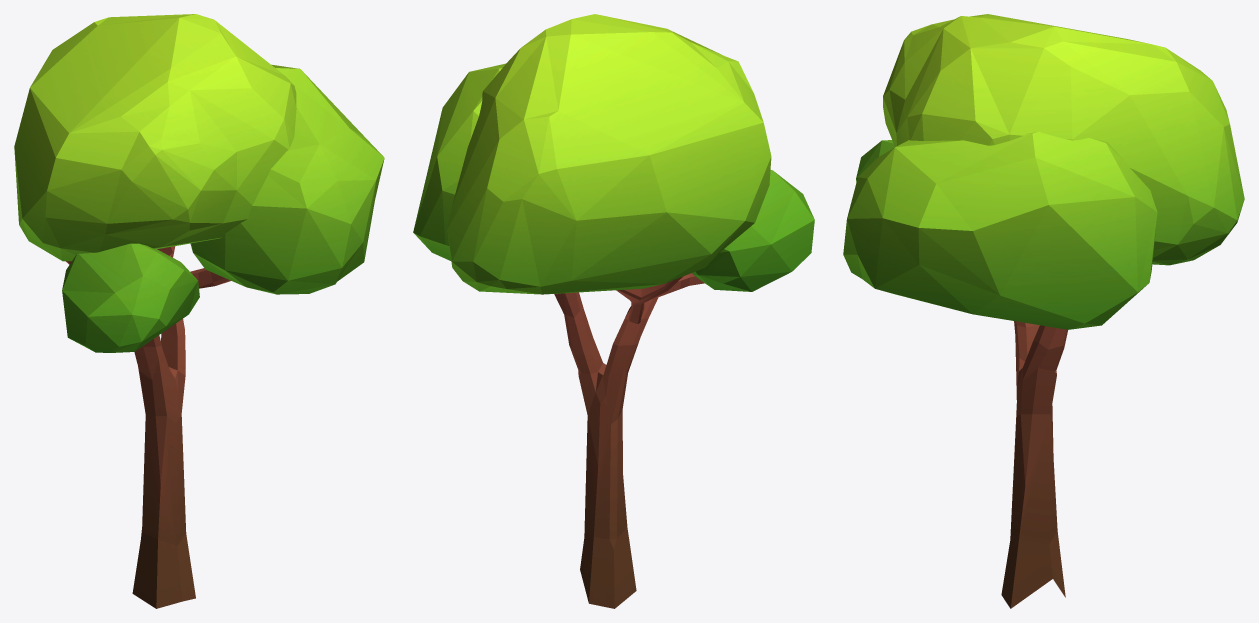
The picture shows the model from 3 angles, left to right: view 1: azimuth 30°, elevation 25°; view 2: azimuth 150°, elevation 25°; view 3: azimuth 270°, elevation 25°; orthographic projection. The views are drawn at different scales.
Visible parts, largest first — view 1: Tree2; view 2: Tree2; view 3: Tree2.
Boxes of the visible parts, x1,y1,x2,y2 form: Tree2: [14, 14, 384, 608]; Tree2: [413, 14, 814, 608]; Tree2: [843, 14, 1244, 608].
Bounding box in the file's own units: 175 × 300 × 186.
1 material, 1 textured.
